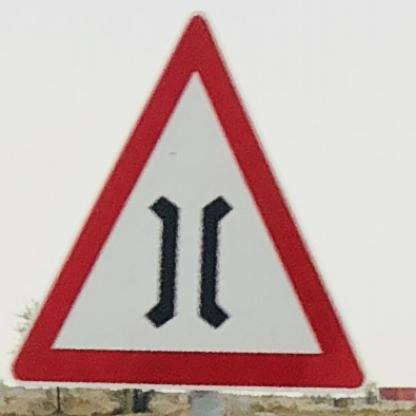Bridge Ahead: (2, 11, 369, 388)
